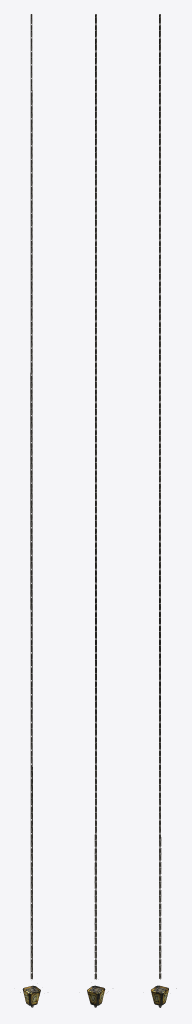
File: undeadhanginglantern01.obj
3 renders of one model, left to right at view 1: azimuth 30°, elevation 25°; view 2: azimuth 150°, elevation 25°; view 3: azimuth 330°, elevation 25°, orthographic.
Parts seen in each view (by area): view 1: Geoset1, Geoset0; view 2: Geoset1, Geoset0; view 3: Geoset1, Geoset0.
Boxes of the visible parts, left/top/right/bottom form: Geoset1: left=20, top=14, right=38, bottom=1007; Geoset0: left=23, top=986, right=40, bottom=1004; Geoset1: left=89, top=14, right=102, bottom=1007; Geoset0: left=87, top=985, right=104, bottom=1004; Geoset1: left=153, top=14, right=176, bottom=1007; Geoset0: left=151, top=985, right=168, bottom=1004.
Size of the model in its own units: 2.04 by 86.7 by 2.11.
2 materials, 2 textured.
